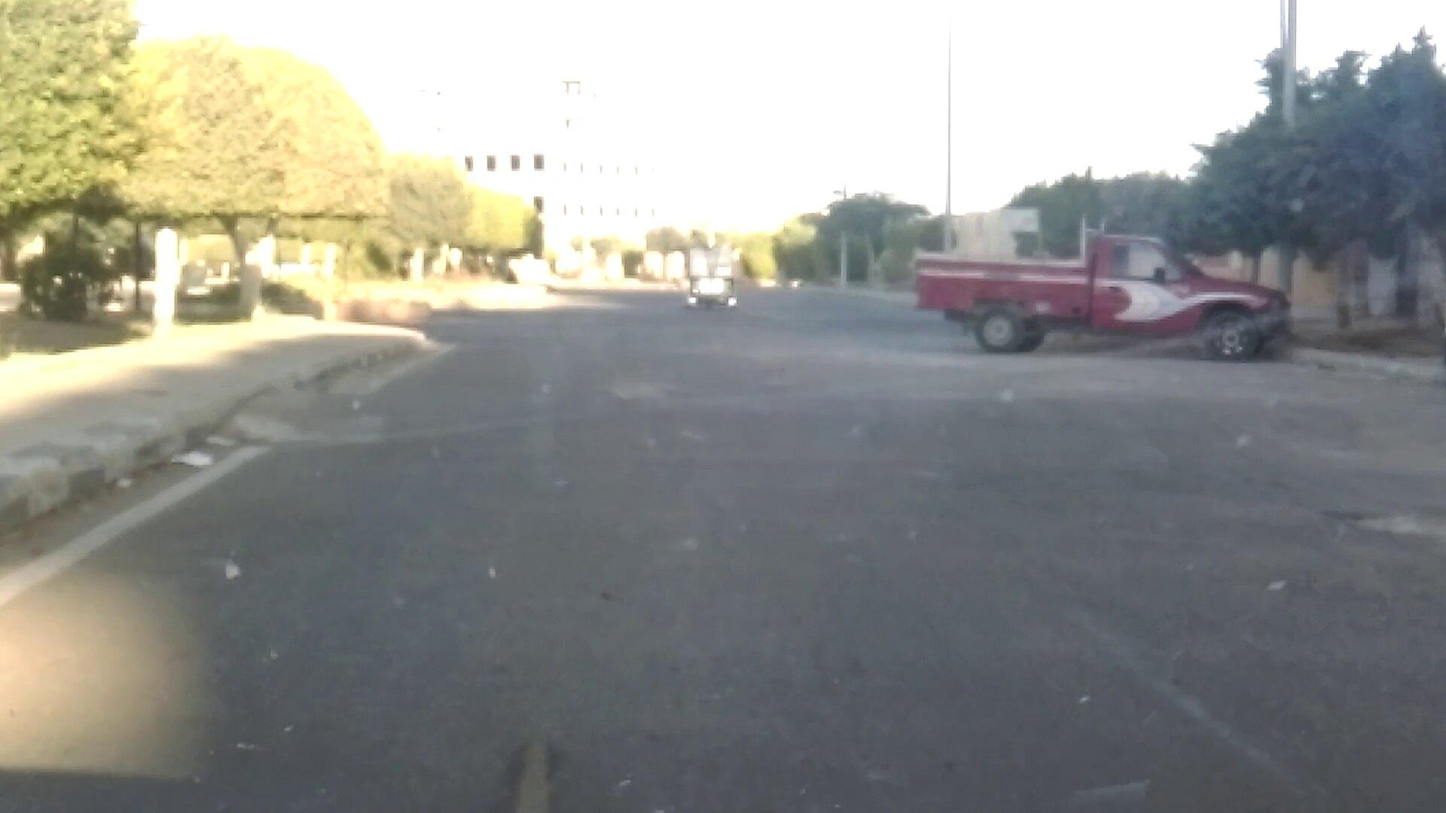Bump: (313, 371, 1376, 442)
Pothole: (484, 694, 595, 813), (1350, 476, 1440, 553)
